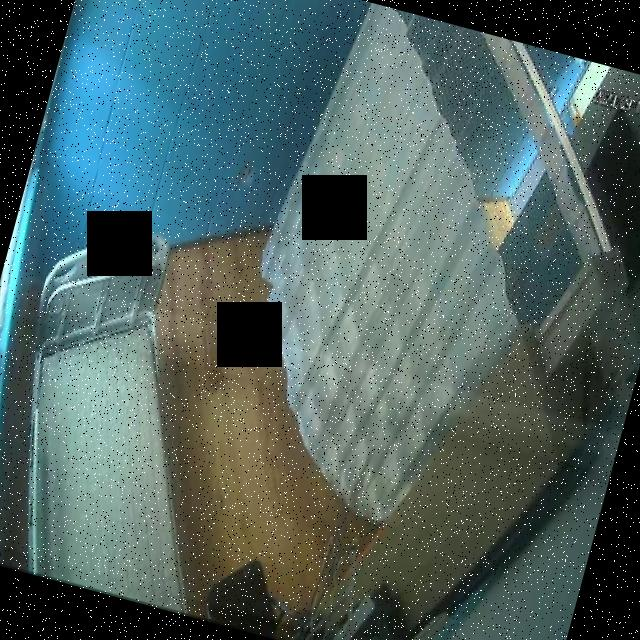bed: (0, 208, 280, 615)
